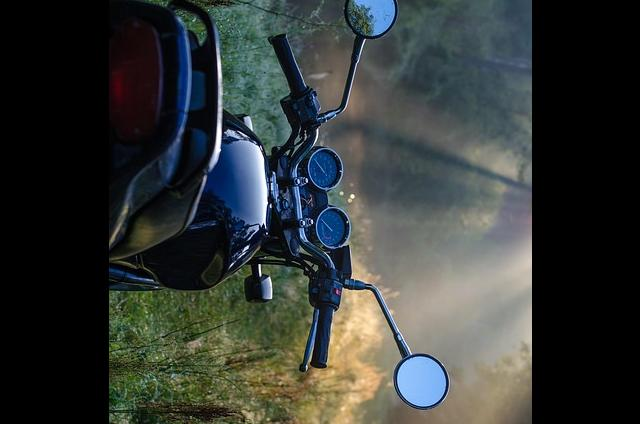Non_Gorille: (108, 0, 513, 424)
